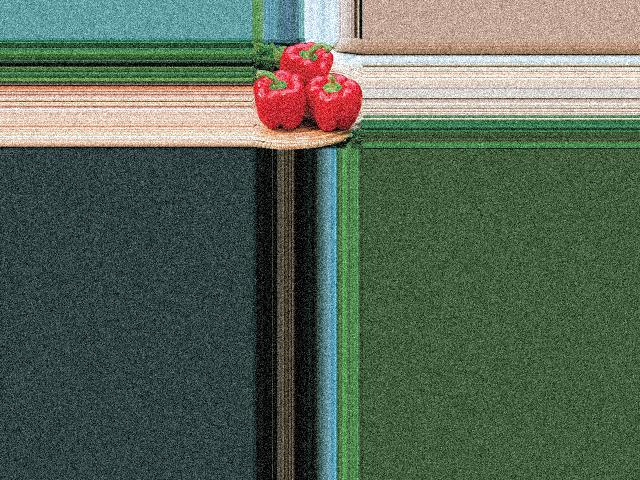bell_pepper: (254, 69, 313, 137)
